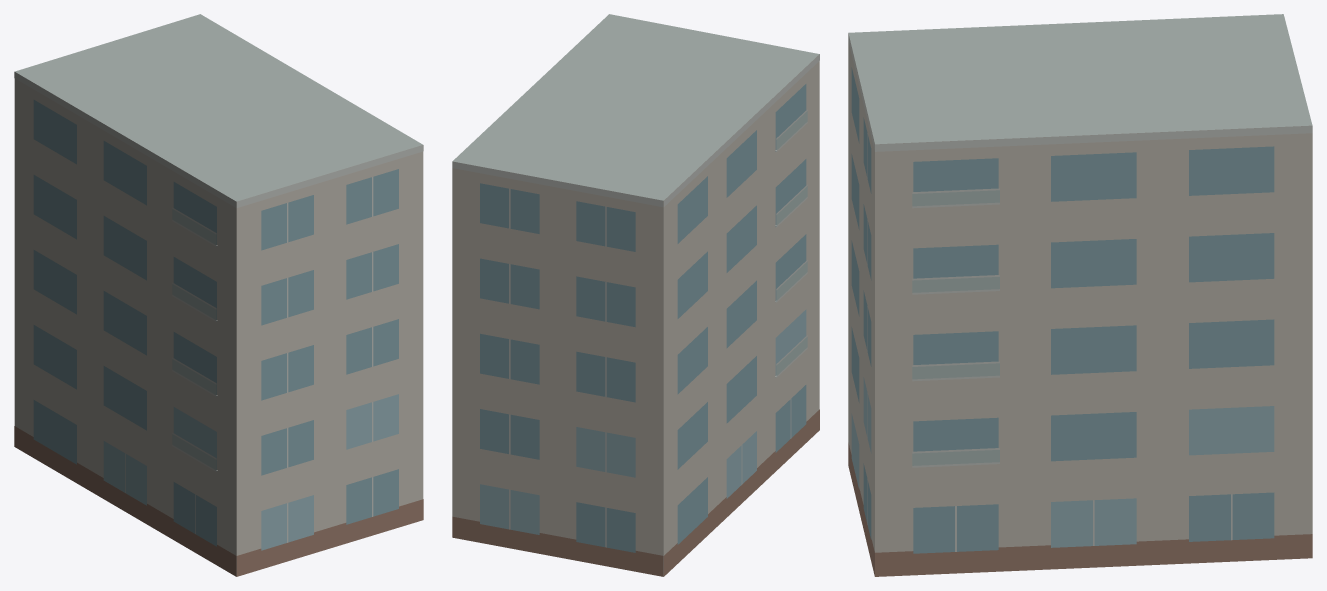
Rendered from survey-upis-32781170.glb.
The picture shows the model from 3 angles, left to right: view 1: azimuth 30°, elevation 25°; view 2: azimuth 150°, elevation 25°; view 3: azimuth 270°, elevation 25°; orthographic projection. The views are drawn at different scales.
Parts seen in each view (by area): view 1: survey-upis-32781170.tmp; view 2: survey-upis-32781170.tmp; view 3: survey-upis-32781170.tmp.
Boxes of the visible parts, x1,y1,x2,y2 form: survey-upis-32781170.tmp: (14,14,423,576); survey-upis-32781170.tmp: (452,14,819,576); survey-upis-32781170.tmp: (848,14,1312,576).
Size of the model in its own units: 8.99 by 13.9 by 13.53.
